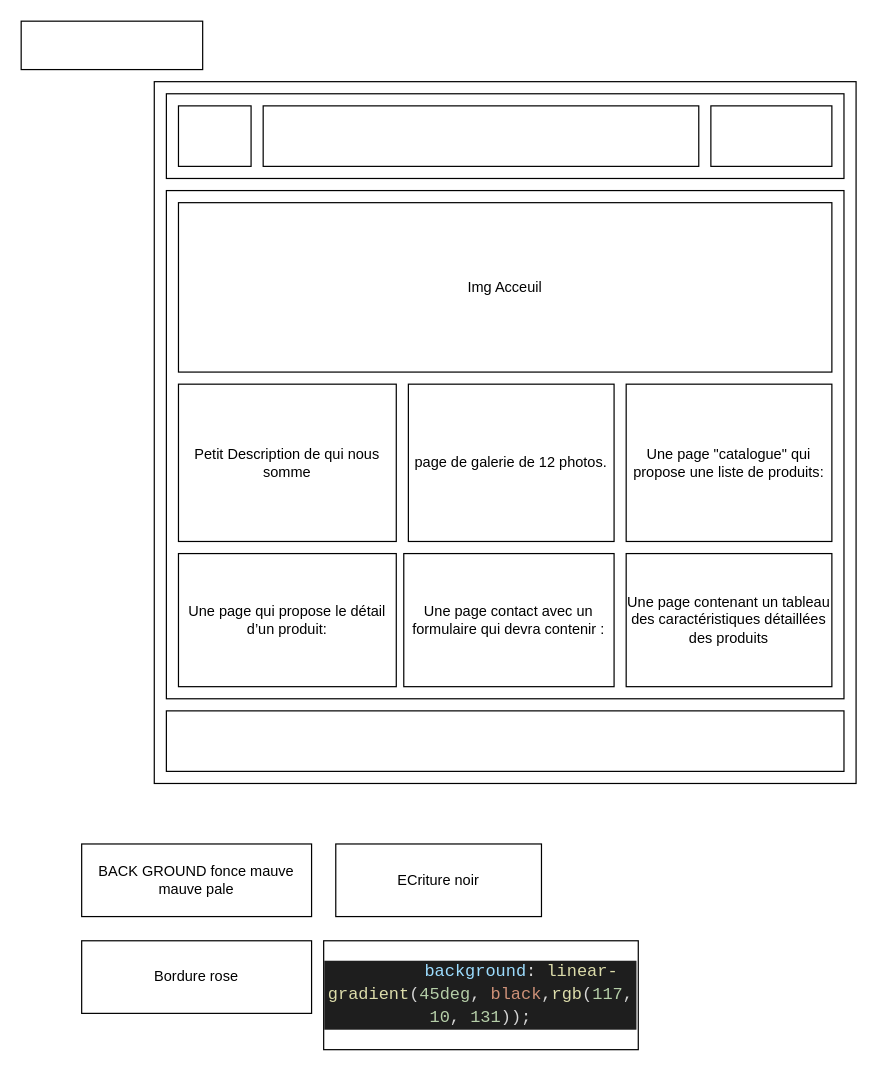
The diagram is 877 pixels wide and 1071 high, and some of its shapes have lost their labels. The centre of each missing label's shape, as x and y in pixels:
"EVAN" goes at point (111, 45).
"Footer" goes at point (504, 740).
"Langue Ou date" goes at point (771, 135).
"Nav /DropDown" goes at point (214, 135).
"Titre /// Et lien de retour vers acceuil" goes at point (480, 135).
